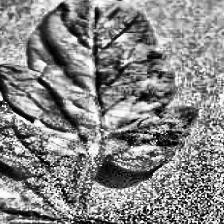leaf mold: (0, 0, 199, 224)
